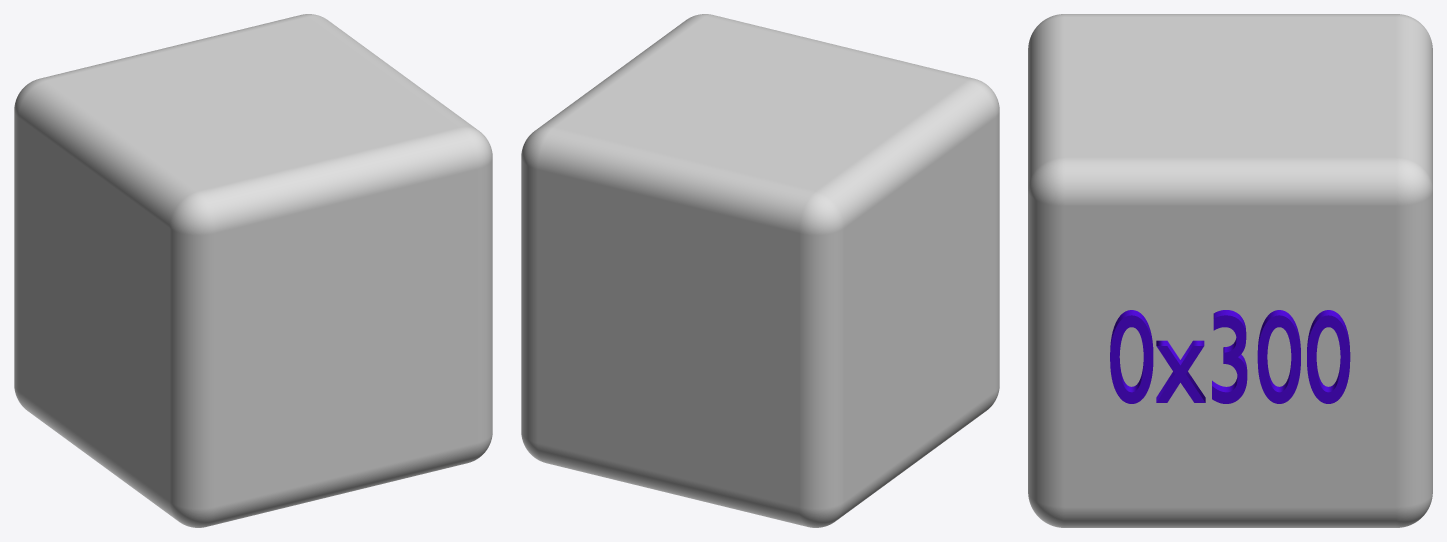
Rendered from Instr24.fbx.
3 views of the same model, side by side, from view 1: azimuth 30°, elevation 25°; view 2: azimuth 150°, elevation 25°; view 3: azimuth 270°, elevation 25° (orthographic). The views are drawn at different scales.
Parts seen in each view (by area): view 1: Cube; view 2: Cube; view 3: Cube, Text.
Part boxes in pixels (x1,y1,x2,y2): Cube: (14, 14, 492, 527); Cube: (521, 14, 999, 527); Cube: (1028, 14, 1432, 527); Text: (1110, 310, 1350, 403).
Bounding box in the file's own units: 69.29 × 67.15 × 67.15.
